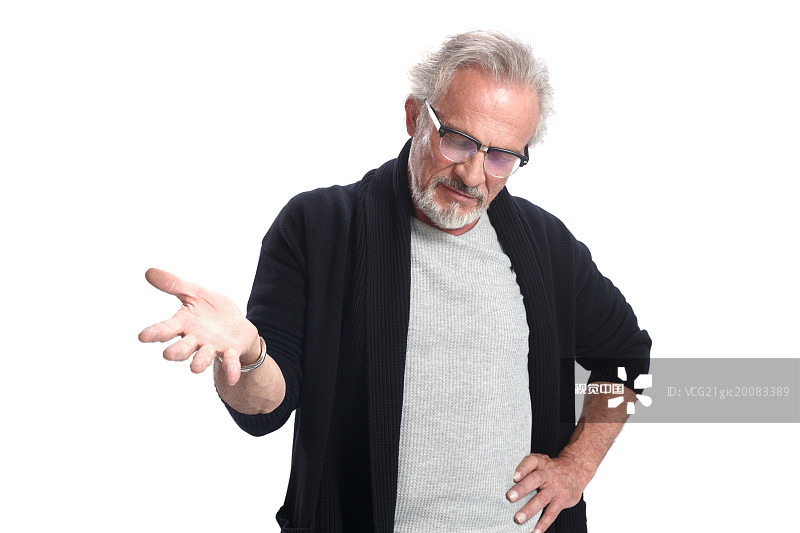no-phone: (109, 244, 297, 403), (489, 422, 619, 533)
